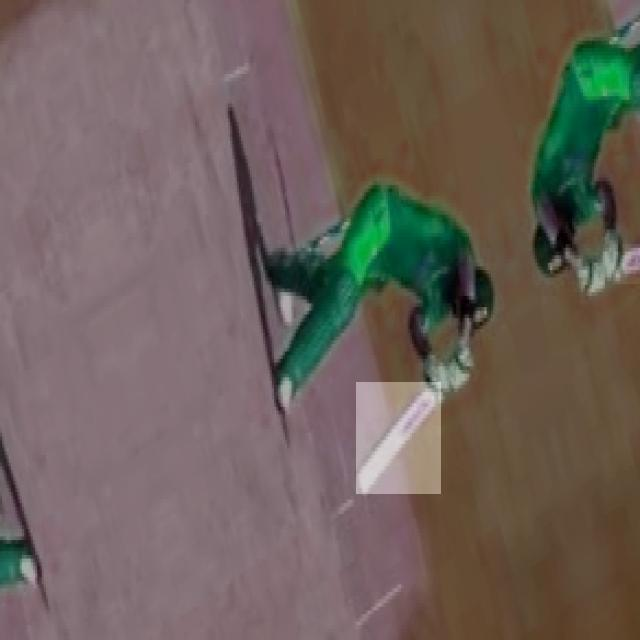bat: (353, 380, 441, 499)
toe: (349, 478, 380, 499)
